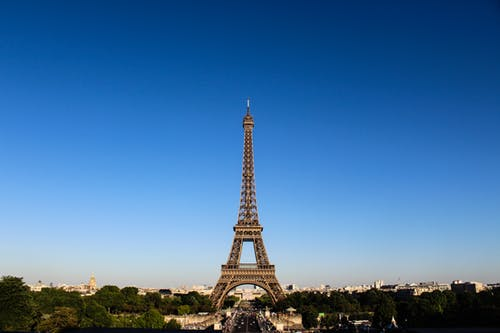eiffel tower: (190, 85, 299, 314)
